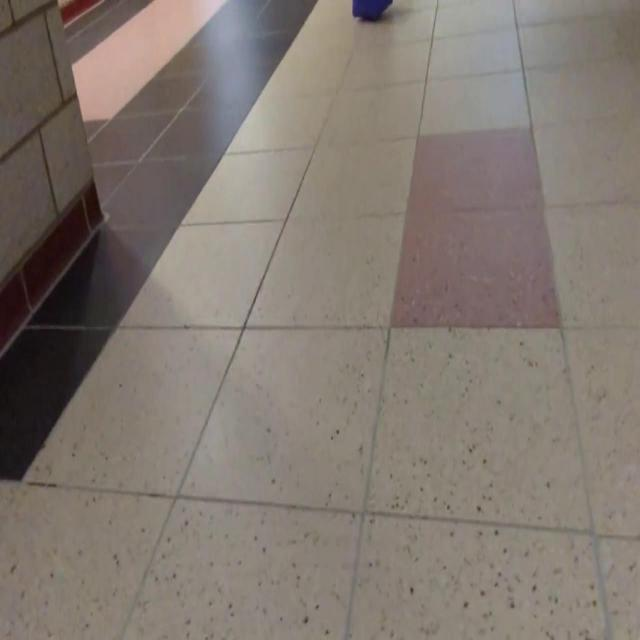frc_cube: (350, 0, 394, 20)
